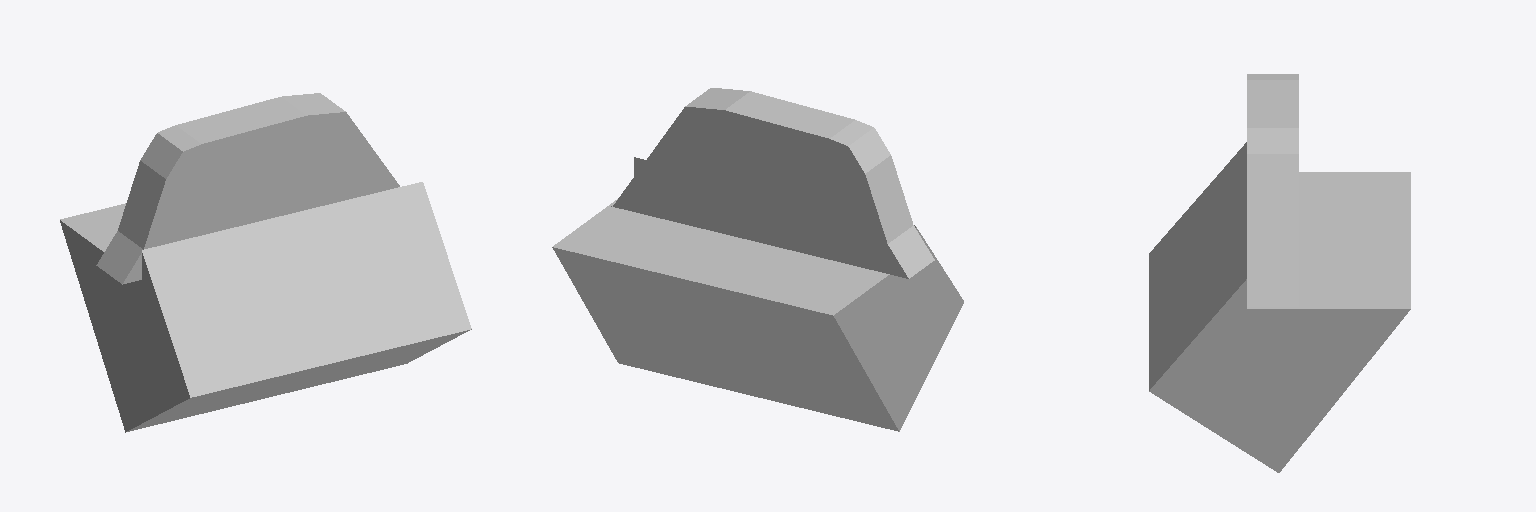
Rendered from col11.obj.
3 views of the same model, side by side, from view 1: azimuth 30°, elevation 25°; view 2: azimuth 150°, elevation 25°; view 3: azimuth 270°, elevation 25° (orthographic).
Visible parts, largest first — view 1: Körper11; view 2: Körper11; view 3: Körper11.
Boxes of the visible parts, x1,y1,x2,y2 form: Körper11: [60, 93, 471, 432]; Körper11: [552, 88, 963, 431]; Körper11: [1149, 74, 1410, 472].
Bounding box in the file's own units: 0.0534 × 0.049 × 0.0404.